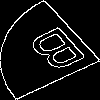B: (24, 25, 98, 82)
